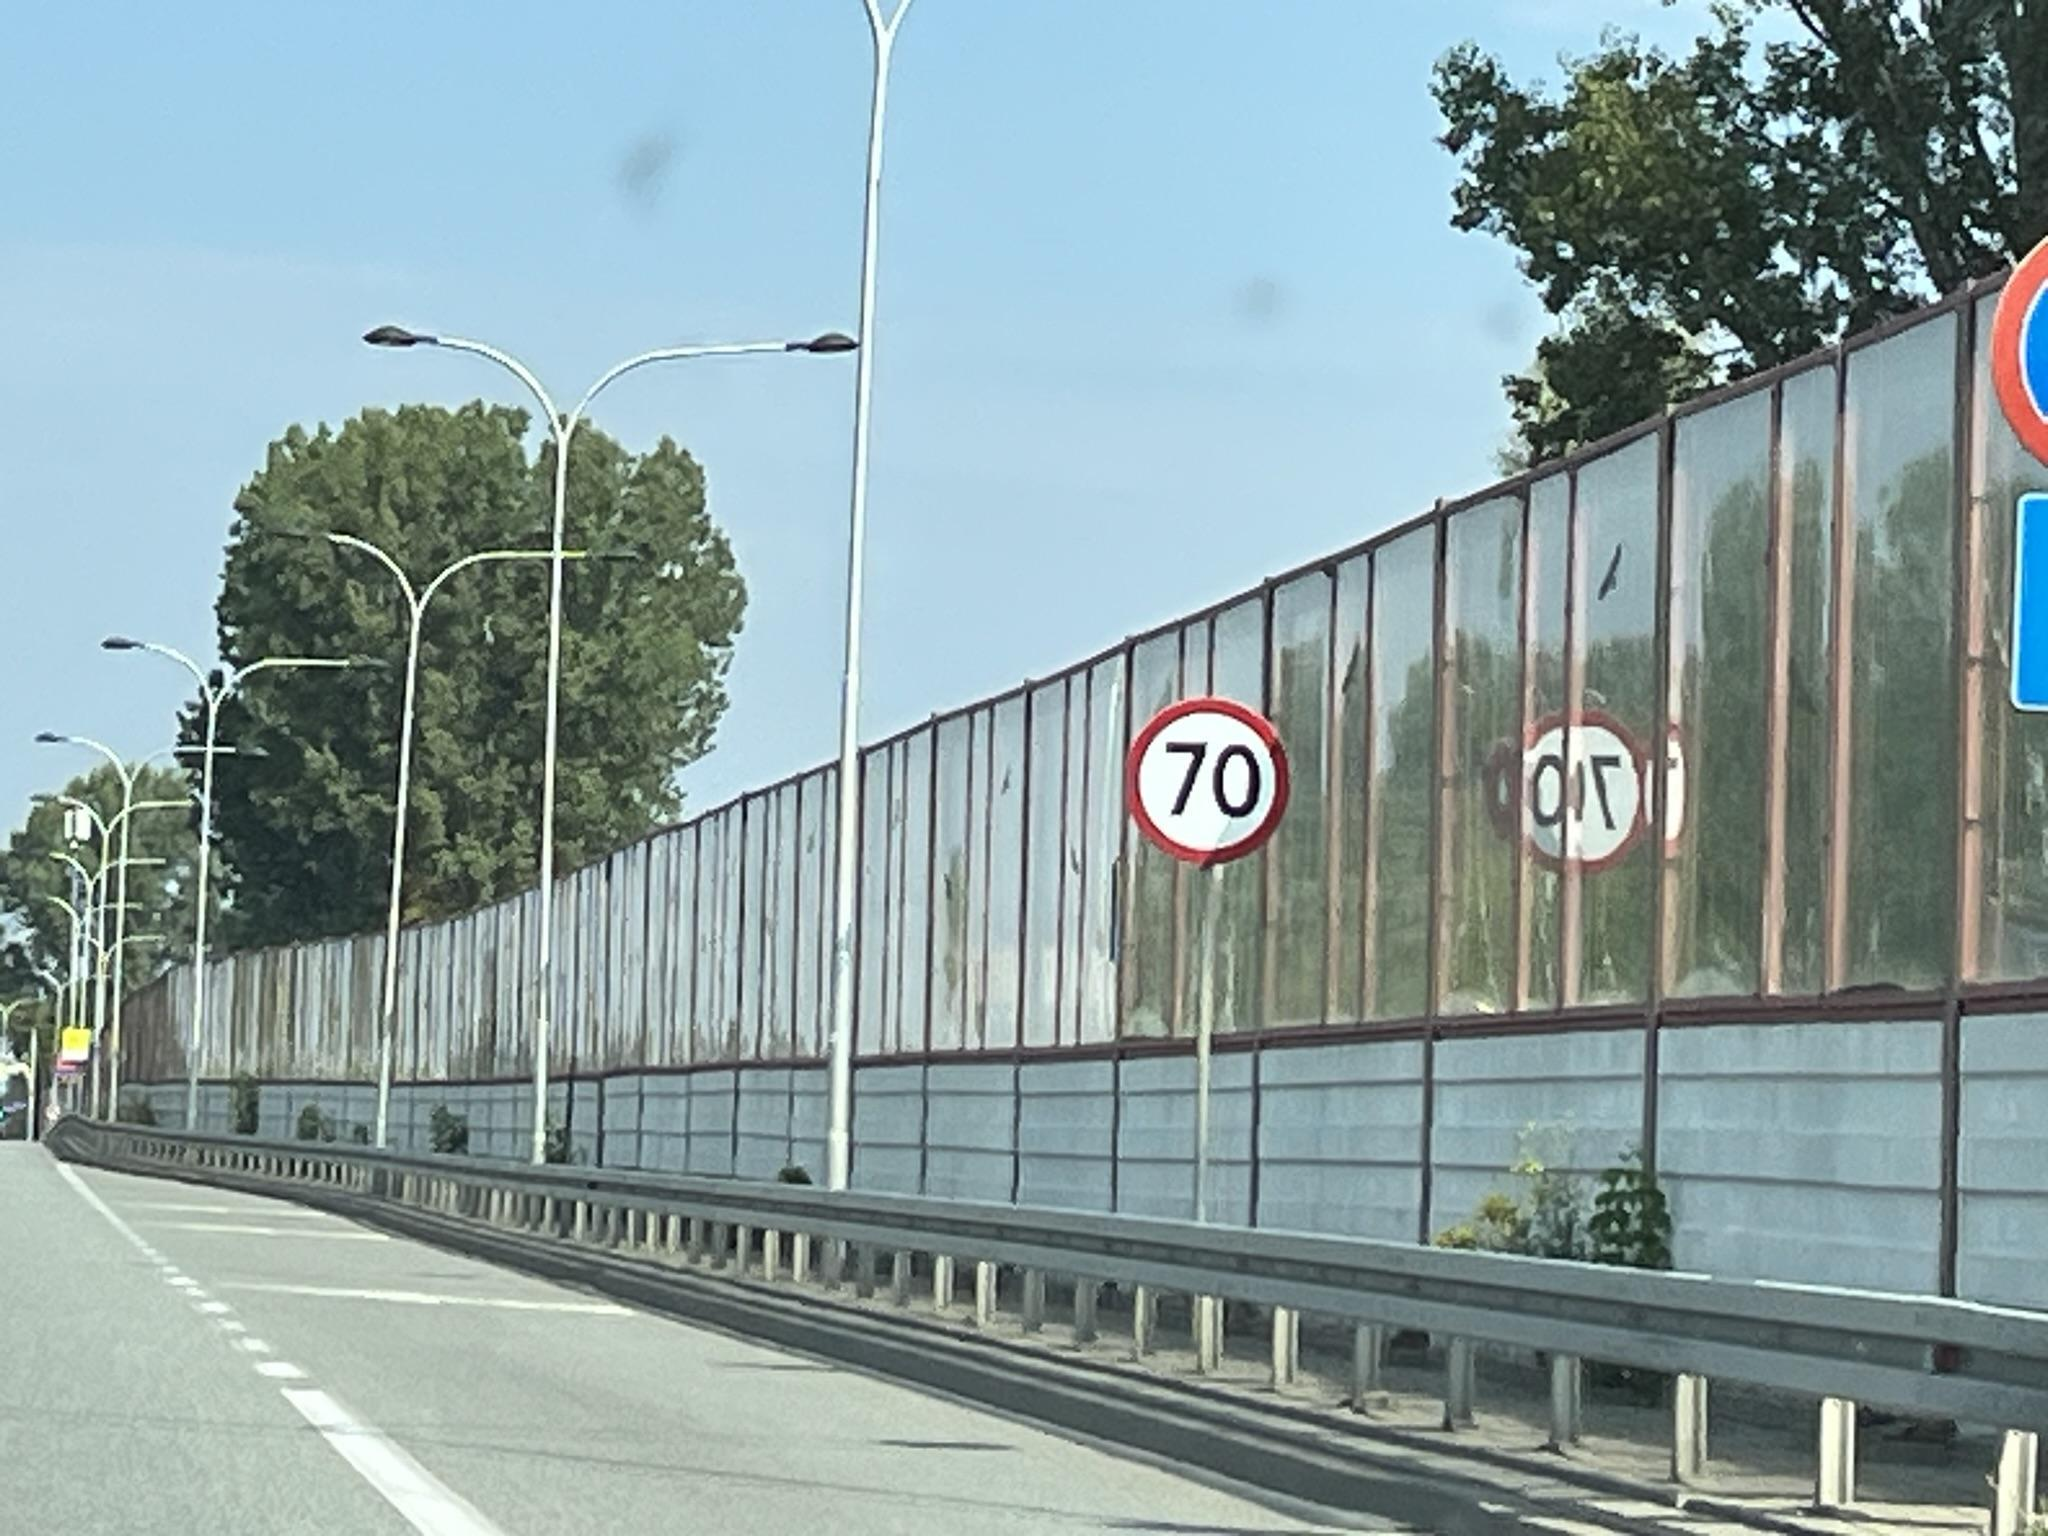information: (2008, 492, 2048, 710)
prohibitory: (1122, 694, 1293, 865), (1987, 231, 2048, 470)
